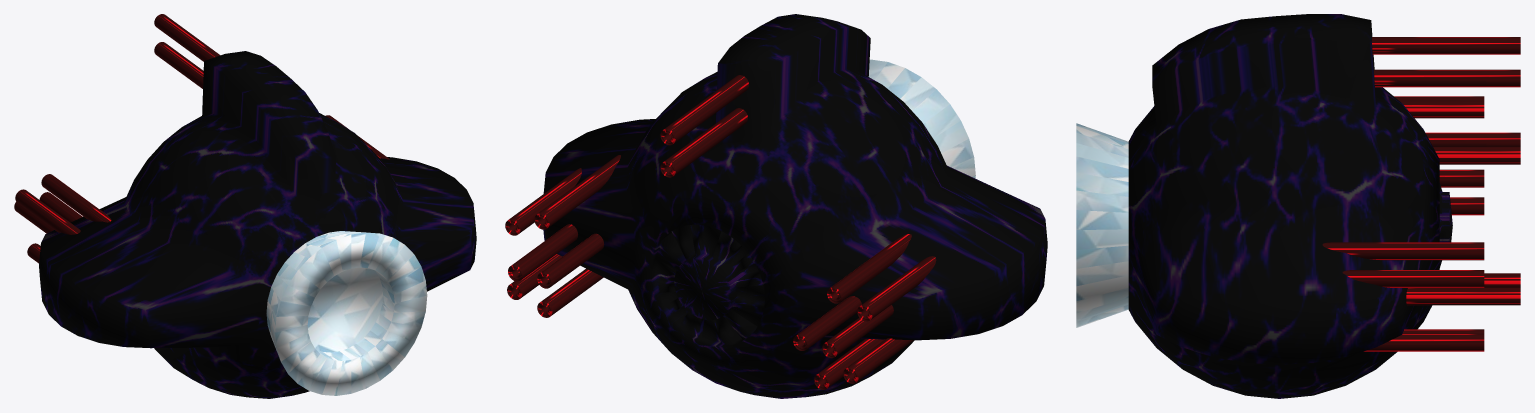
Rendered from gunner_spacebot.gltf.
3 renders of one model, left to right at view 1: azimuth 30°, elevation 25°; view 2: azimuth 150°, elevation 25°; view 3: azimuth 270°, elevation 25°, orthographic. The views are drawn at different scales.
Parts seen in each view (by area): view 1: Sphere, Cone, Cylinder.008, Cylinder.003, Cylinder.009, Cylinder, Cylinder.005; view 2: Sphere, Cone, Cylinder.003, Cylinder, Cylinder.007, Cylinder.008, Cylinder.009, Cylinder.002, Cylinder.005, Cylinder.004, Cylinder.006, Cylinder.011 (+4 smaller); view 3: Sphere, Cone, Cylinder, Cylinder.007, Cylinder.003, Cylinder.006, Cylinder.002, Cylinder.010, Cylinder.005, Cylinder.008, Cylinder.001, Cylinder.013 (+4 smaller).
Boxes of the visible parts, x1,y1,x2,y2 form: Sphere: [39, 51, 476, 398]; Cone: [266, 231, 427, 395]; Cylinder.008: [41, 174, 111, 222]; Cylinder.003: [154, 14, 220, 61]; Cylinder.009: [15, 189, 80, 234]; Cylinder: [154, 42, 203, 88]; Cylinder.005: [39, 192, 82, 222]; Sphere: [543, 14, 1047, 398]; Cone: [868, 59, 975, 178]; Cylinder.003: [660, 75, 748, 145]; Cylinder: [660, 108, 747, 177]; Cylinder.007: [534, 155, 620, 229]; Cylinder.008: [827, 234, 911, 303]; Cylinder.009: [857, 256, 936, 321]; Cylinder.002: [508, 224, 577, 281]; Cylinder.005: [793, 296, 861, 350]; Cylinder.004: [537, 233, 604, 288]; Cylinder.006: [505, 168, 581, 235]; Cylinder.011: [537, 268, 603, 317]; Sphere: [1128, 14, 1452, 398]; Cone: [1076, 123, 1128, 327]; Cylinder: [1374, 69, 1520, 87]; Cylinder.007: [1322, 242, 1484, 260]; Cylinder.003: [1372, 37, 1520, 54]; Cylinder.006: [1342, 270, 1484, 287]; Cylinder.002: [1406, 287, 1520, 305]; Cylinder.010: [1364, 333, 1484, 351]; Cylinder.005: [1433, 147, 1520, 164]; Cylinder.008: [1399, 100, 1484, 118]; Cylinder.001: [1425, 132, 1520, 146]; Cylinder.013: [1439, 169, 1484, 187].
Bounding box in the file's own units: 8.46 × 6.22 × 6.99.
16 materials, 16 textured.
